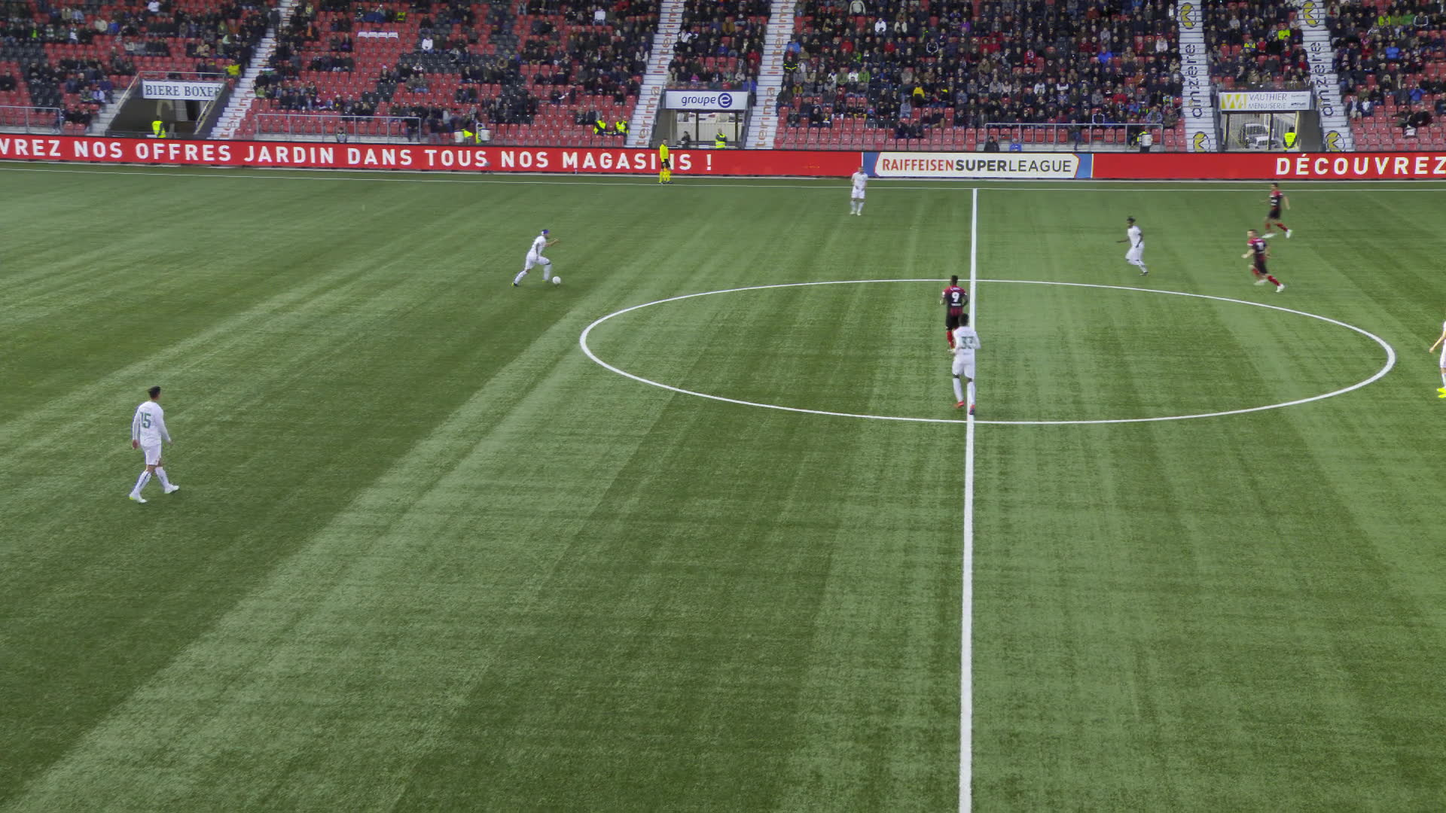ball: (553, 276, 561, 283)
player: (130, 385, 178, 501), (952, 315, 983, 415), (1244, 229, 1282, 291), (514, 230, 554, 286), (940, 276, 969, 349), (1121, 214, 1154, 276), (1264, 182, 1292, 239), (1429, 318, 1445, 397), (851, 166, 869, 215)
referee: (659, 137, 672, 184)
